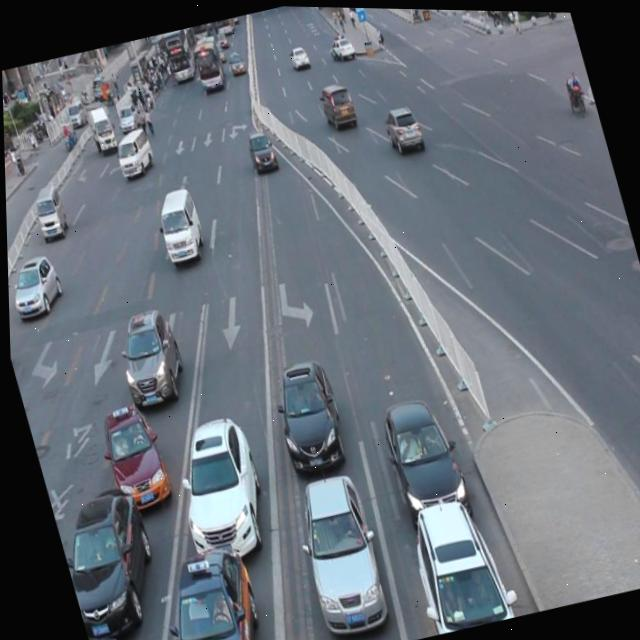car: (279, 459, 393, 638), (45, 477, 168, 640), (156, 405, 275, 566), (396, 482, 514, 635), (136, 531, 270, 640), (370, 382, 467, 521), (259, 348, 349, 474), (90, 393, 173, 515), (104, 297, 191, 411), (6, 249, 66, 321), (380, 101, 424, 155), (243, 126, 278, 175)
truck: (149, 184, 208, 265), (109, 125, 156, 180), (28, 181, 70, 241)
